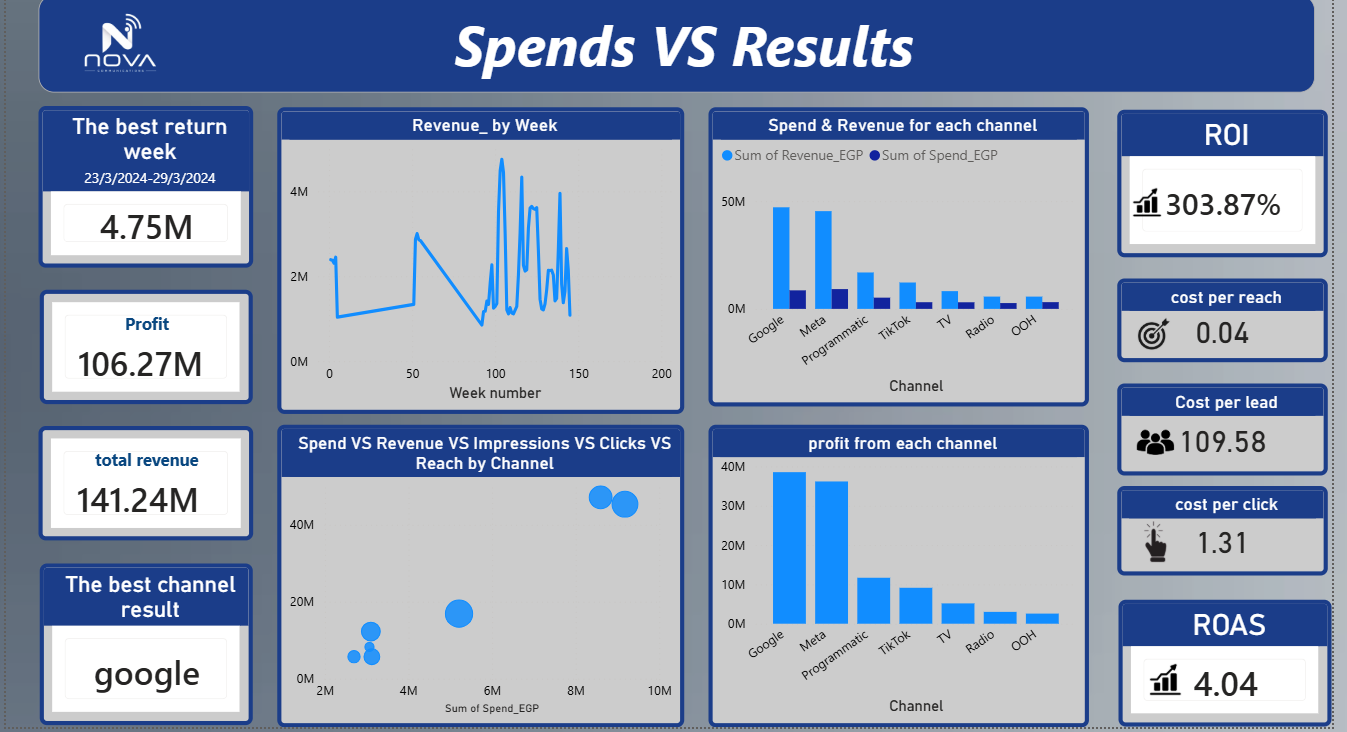

The page's visual inventory and layout, read from the dashboard file:
{"tool":"powerbi","page":{"name":"Spends VS Results","canvas":[1280,720],"ordinal":3},"visuals":[{"type":"textbox","title":"Pudget Overview","box":[30.9,13.4,1231.9,94.1],"z":0},{"type":"image","box":[30.6,15.3,161.4,91.8],"z":2000},{"type":"card","title":"Cost per lead","fields":{"Values":["Brand_Awareness_Metrics.Leads per EGP"]},"box":[1072.7,388.2,203.1,88.8],"z":3000},{"type":"card","title":" cost per click","fields":{"Values":["Brand_Awareness_Metrics.Clicks per EGP"]},"box":[1072.7,487.7,203.1,86.1],"z":4000},{"type":"card","title":" cost per reach","fields":{"Values":["Brand_Awareness_Metrics.cost per Reach"]},"box":[1072.7,287.3,203.1,80.7],"z":5000},{"type":"cardVisual","fields":{"Data":["Brand_Awareness_Metrics.total revenue"]},"box":[30.9,430,207.1,110.3],"z":6000},{"type":"cardVisual","fields":{"Data":["Brand_Awareness_Metrics.Profit"]},"box":[32.3,298.4,205.8,110.3],"z":7000},{"type":"cardVisual","title":"ROI","fields":{"Data":["Brand_Awareness_Metrics.ROI"]},"box":[1072.4,123.8,203.1,142.6],"z":8000},{"type":"cardVisual","title":"ROAS","fields":{"Data":["Brand_Awareness_Metrics.ROAS"]},"box":[1073.8,597.2,205.8,122.4],"z":9000},{"type":"scatterChart","title":"Spend VS Revenue VS Impressions VS  Clicks VS  Reach by Channel","fields":{"Size":["Sum(__Daily_Channel_Performance.Impressions)"],"Category":["__Daily_Channel_Performance.Channel"],"X":["Sum(__Daily_Channel_Performance.Spend_EGP)"],"Y":["Sum(__Daily_Channel_Performance.Revenue_EGP)"]},"box":[261.6,428.2,392.7,291.8],"z":10000},{"type":"clusteredColumnChart","title":" Spend & Revenue for each channel ","fields":{"Y":["Sum(__Daily_Channel_Performance.Revenue_EGP)","Sum(__Daily_Channel_Performance.Spend_EGP)"],"Category":["__Daily_Channel_Performance.Channel"]},"box":[678.5,121.4,367.1,289.1],"z":11000},{"type":"clusteredColumnChart","title":"profit from each channel ","fields":{"Category":["__Daily_Channel_Performance.Channel"],"Y":["Sum(__Daily_Channel_Performance.profit from each channel)"]},"box":[678.5,428,367.1,291.8],"z":12000},{"type":"lineChart","title":"Revenue_ by Week ","fields":{"Category":["__Daily_Channel_Performance.Week number"],"Y":["Sum(__Daily_Channel_Performance.Revenue_EGP)"]},"box":[261.6,121.5,392.7,295.9],"z":13000},{"type":"cardVisual","title":"The best return week","fields":{"Data":["Brand_Awareness_Metrics.The best return week"]},"box":[30.9,121,207.1,156],"z":14000},{"type":"cardVisual","title":"The best channel result","fields":{"Data":["Brand_Awareness_Metrics.best channel"]},"box":[32.3,561.6,205.8,156],"z":15000},{"type":"image","box":[1072.5,150.8,57.9,125.5],"z":16000},{"type":"image","box":[1087.1,390.8,44.6,108.6],"z":17000},{"type":"image","box":[1087.1,309.9,38.6,60.3],"z":18000},{"type":"image","box":[1067.8,510.2,83.2,61.5],"z":19000},{"type":"image","box":[1087,628.6,63.9,91.7],"z":20001}]}

Visuals, with their boxes in screenshot pixels (x1, y1, x2, y2):
"Pudget Overview" textbox: box=[32, 0, 1315, 87]
image: box=[32, 0, 200, 87]
"Cost per lead" card: box=[1117, 380, 1328, 472]
" cost per click" card: box=[1117, 483, 1328, 573]
" cost per reach" card: box=[1117, 275, 1328, 359]
cardVisual - Brand_Awareness_Metrics.total revenue: box=[32, 423, 248, 538]
cardVisual - Brand_Awareness_Metrics.Profit: box=[34, 286, 248, 401]
"ROI" cardVisual: box=[1116, 104, 1328, 253]
"ROAS" cardVisual: box=[1118, 597, 1332, 725]
"Spend VS Revenue VS Impressions VS  Clicks VS  Reach by Channel" scatterChart: box=[272, 421, 681, 725]
" Spend & Revenue for each channel " clusteredColumnChart: box=[706, 102, 1089, 403]
"profit from each channel " clusteredColumnChart: box=[706, 421, 1089, 725]
"Revenue_ by Week " lineChart: box=[272, 102, 681, 410]
"The best return week" cardVisual: box=[32, 101, 248, 264]
"The best channel result" cardVisual: box=[34, 560, 248, 723]
image: box=[1117, 132, 1177, 263]
image: box=[1132, 382, 1178, 495]
image: box=[1132, 298, 1172, 361]
image: box=[1112, 507, 1198, 571]
image: box=[1132, 630, 1198, 725]
